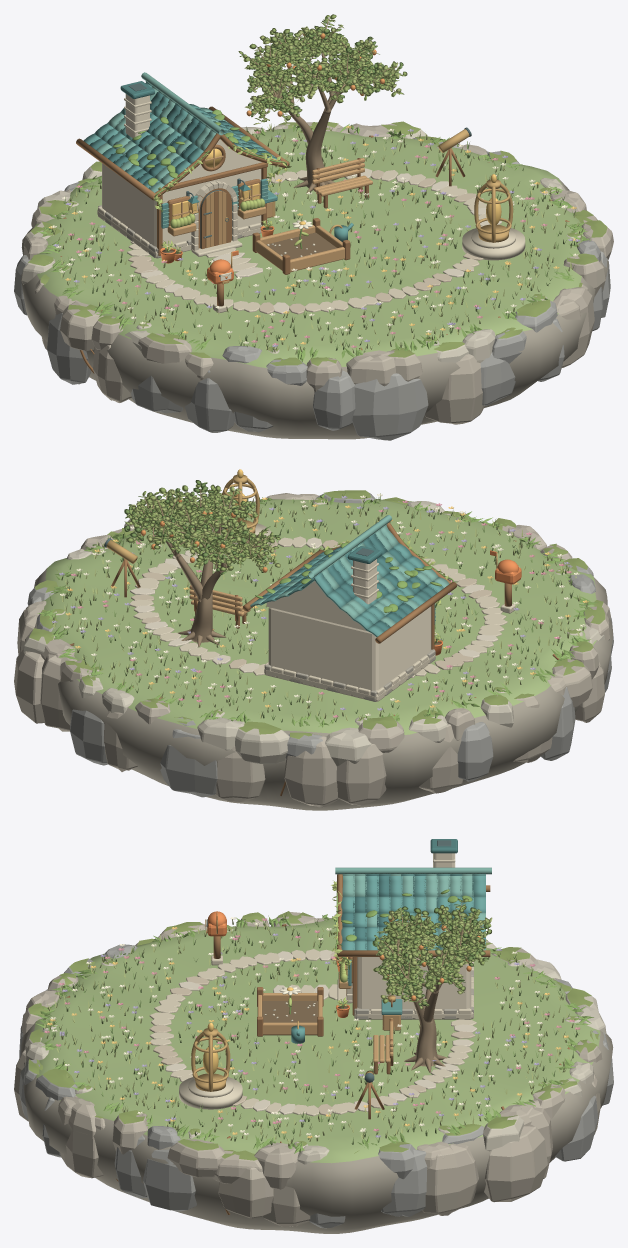
Rendered from HomeArt-v2.fbx.
3 renders of one model, top to bottom at view 1: azimuth 30°, elevation 25°; view 2: azimuth 150°, elevation 25°; view 3: azimuth 270°, elevation 25°, orthographic.
Parts seen in each view (by area): view 1: Ground_Surface, DetailBatch_V2_CliffSlate, DetailBatch_V2_CliffWarm, MeadowGrass, DetailBatch_V2_Stone, DetailBatch_V2_Timber, TreeDetail_TreeLeafMid, DetailBatch_V2_RockMoss, DetailBatch_V2_LightWood, DetailBatch_V2_Leaf, MeadowFlowers, TreeDetail_TreeLeafSun (+18 smaller); view 2: Ground_Surface, DetailBatch_V2_CliffWarm, Cottage_Walls, DetailBatch_V2_CliffSlate, MeadowGrass, DetailBatch_V2_CliffPale, DetailBatch_V2_Stone, TreeDetail_TreeLeafMid, DetailBatch_V2_RockMoss, DetailBatch_V2_Leaf, MeadowFlowers, TreeDetail_TreeLeafSun (+15 smaller); view 3: Ground_Surface, DetailBatch_V2_CliffWarm, DetailBatch_V2_CliffSlate, MeadowGrass, DetailBatch_V2_Stone, DetailBatch_V2_RockMoss, TreeDetail_TreeLeafMid, DetailBatch_V2_Teal, MeadowFlowers, DetailBatch_V2_CliffPale, DetailBatch_V2_Leaf, DetailBatch_V2_TealLight (+16 smaller).
Boxes of the visible parts, left/top/right/bottom form: Ground_Surface: left=21, top=127, right=608, bottom=439; DetailBatch_V2_CliffSlate: left=14, top=137, right=610, bottom=440; DetailBatch_V2_CliffWarm: left=23, top=122, right=613, bottom=424; MeadowGrass: left=51, top=122, right=583, bottom=354; DetailBatch_V2_Stone: left=97, top=98, right=515, bottom=312; DetailBatch_V2_Timber: left=60, top=106, right=569, bottom=373; TreeDetail_TreeLeafMid: left=238, top=14, right=407, bottom=122; DetailBatch_V2_RockMoss: left=28, top=121, right=607, bottom=365; DetailBatch_V2_LightWood: left=167, top=149, right=372, bottom=272; DetailBatch_V2_Leaf: left=36, top=109, right=590, bottom=361; MeadowFlowers: left=49, top=125, right=580, bottom=349; TreeDetail_TreeLeafSun: left=244, top=19, right=401, bottom=124; Ground_Surface: left=25, top=499, right=612, bottom=810; DetailBatch_V2_CliffWarm: left=14, top=493, right=610, bottom=807; Cottage_Walls: left=268, top=606, right=431, bottom=690; DetailBatch_V2_CliffSlate: left=27, top=493, right=613, bottom=797; MeadowGrass: left=49, top=493, right=587, bottom=722; DetailBatch_V2_CliffPale: left=23, top=498, right=604, bottom=766; DetailBatch_V2_Stone: left=129, top=525, right=515, bottom=701; TreeDetail_TreeLeafMid: left=124, top=484, right=280, bottom=570; DetailBatch_V2_RockMoss: left=29, top=490, right=605, bottom=738; DetailBatch_V2_Leaf: left=37, top=493, right=598, bottom=727; MeadowFlowers: left=52, top=493, right=588, bottom=717; TreeDetail_TreeLeafSun: left=127, top=486, right=280, bottom=570; Ground_Surface: left=21, top=919, right=613, bottom=1233; DetailBatch_V2_CliffWarm: left=14, top=912, right=602, bottom=1227; DetailBatch_V2_CliffSlate: left=19, top=944, right=613, bottom=1228; MeadowGrass: left=44, top=913, right=578, bottom=1146; DetailBatch_V2_Stone: left=149, top=853, right=476, bottom=1116; DetailBatch_V2_RockMoss: left=28, top=911, right=598, bottom=1160; TreeDetail_TreeLeafMid: left=373, top=898, right=491, bottom=1006; DetailBatch_V2_Teal: left=291, top=874, right=485, bottom=1043; MeadowFlowers: left=44, top=914, right=580, bottom=1138; DetailBatch_V2_CliffPale: left=24, top=927, right=606, bottom=1164; DetailBatch_V2_Leaf: left=35, top=885, right=593, bottom=1153; DetailBatch_V2_TealLight: left=335, top=867, right=491, bottom=982.
Size of the model in its own units: 1922 by 1017 by 1889.
